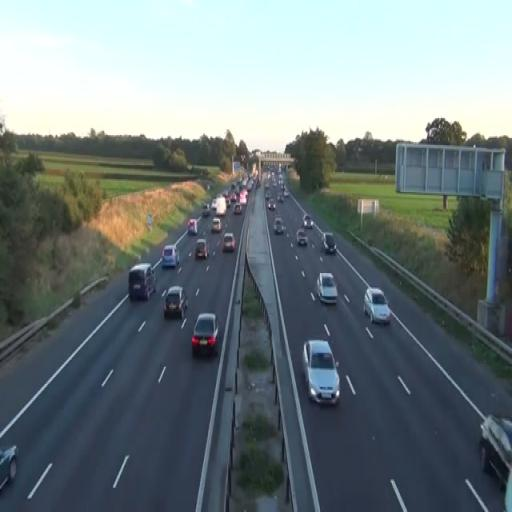Car: (302, 340, 340, 407), (192, 312, 218, 358), (364, 287, 390, 326), (0, 444, 19, 492), (164, 285, 188, 319), (315, 272, 338, 305), (161, 244, 180, 268), (321, 232, 337, 254), (195, 238, 208, 260), (222, 232, 236, 252), (296, 229, 308, 246), (212, 217, 221, 232)
